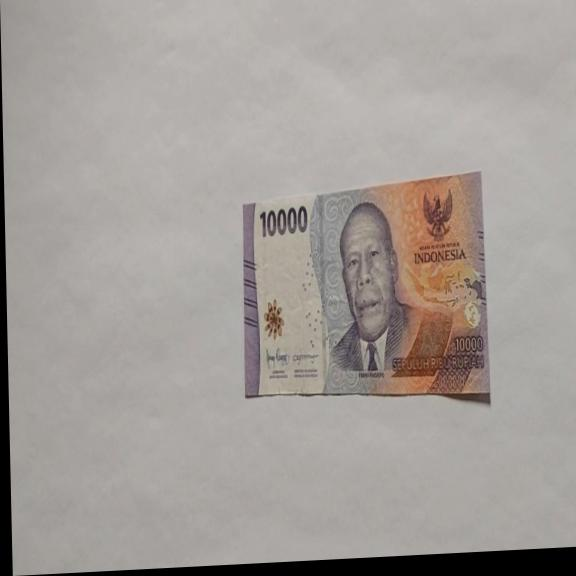Kertas: (240, 170, 490, 412), (258, 203, 309, 239)
